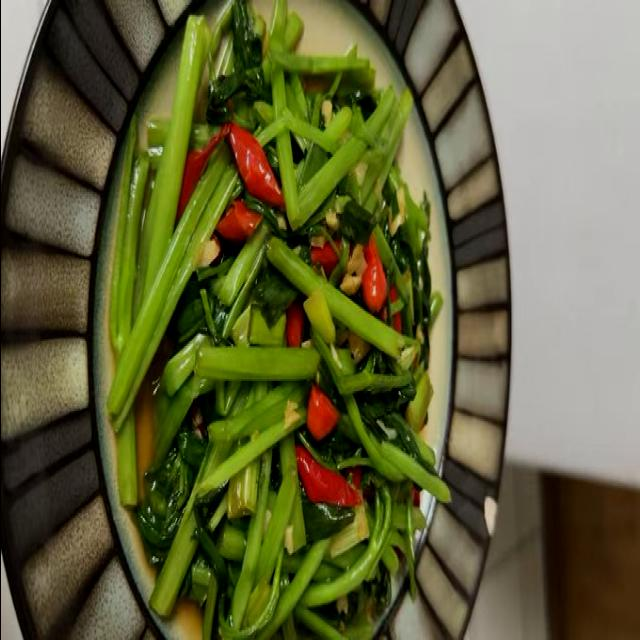tumis kangkung: (77, 0, 449, 640)
